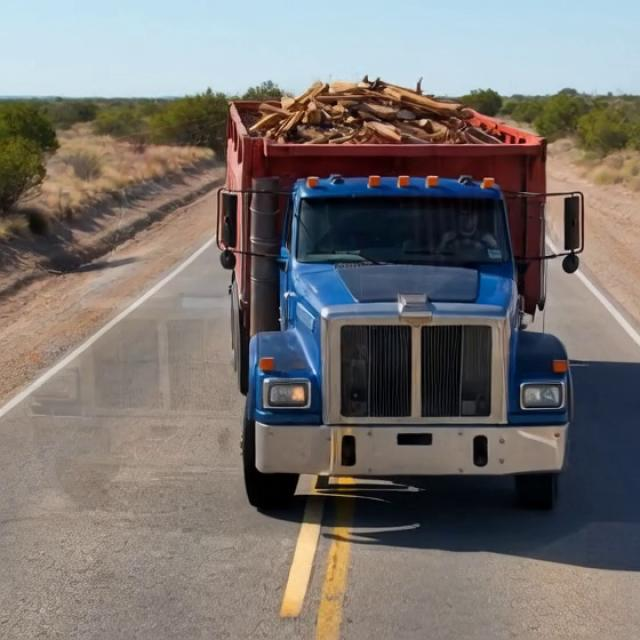Box: (222, 73, 553, 152)
Truck: (212, 71, 590, 505)
